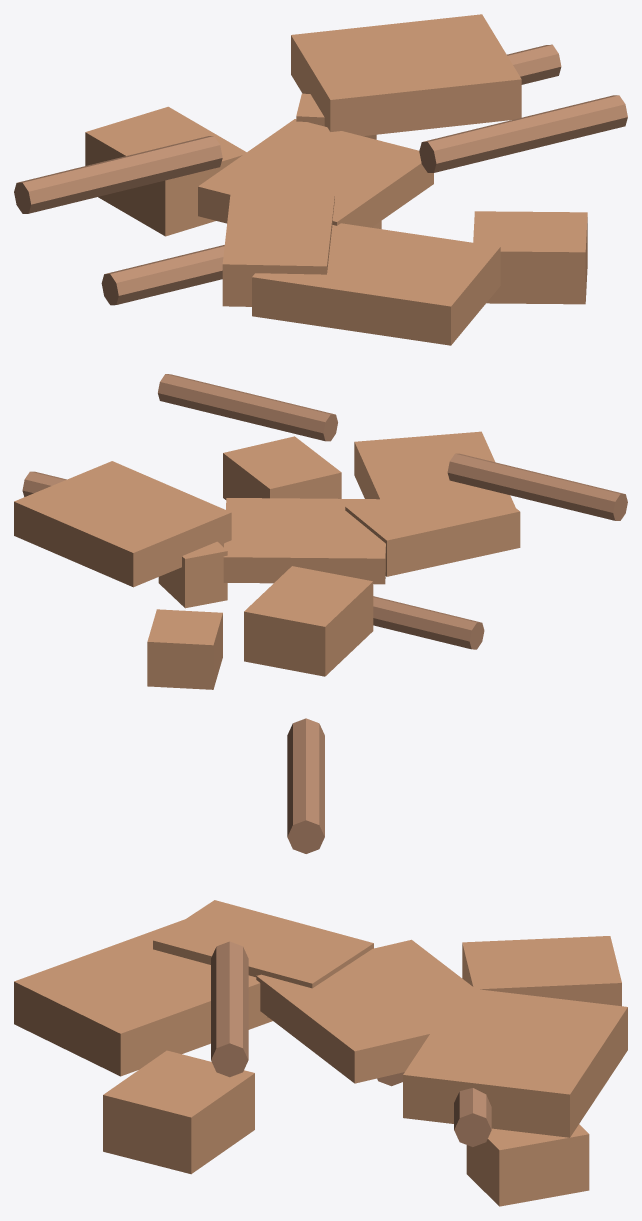
File: scrap_pile_04.glb
3 views of the same model, one above another, from view 1: azimuth 30°, elevation 25°; view 2: azimuth 150°, elevation 25°; view 3: azimuth 270°, elevation 25° (orthographic). The views are drawn at different scales.
Visible parts, largest first — view 1: scrap4, scrap11, scrap7, scrap10, scrap2, scrap5, pipe9, pipe3, pipe0, pipe6, scrap8; view 2: scrap4, scrap7, scrap5, scrap10, scrap11, scrap2, scrap1, pipe3, pipe9, pipe0, scrap8, pipe6; view 3: scrap4, scrap11, scrap7, scrap2, scrap10, scrap5, scrap1, pipe9, pipe3, pipe6.
Boxes of the visible parts, x1,y1,x2,y2 form: scrap4: (291,14,521,136); scrap11: (252,223,500,345); scrap7: (198,119,433,227); scrap10: (222,191,334,306); scrap2: (473,211,587,304); scrap5: (85,106,246,236); pipe9: (419,95,627,172); pipe3: (14,136,222,213); pipe0: (101,245,224,305); pipe6: (507,44,561,84); scrap8: (296,93,376,139); scrap4: (14,461,231,587); scrap7: (223,498,385,584); scrap5: (244,566,373,676); scrap10: (345,482,520,576); scrap11: (354,431,515,507); scrap2: (223,436,341,499); scrap1: (147,609,222,689); pipe3: (447,453,627,520); pipe9: (158,374,337,441); pipe0: (373,596,484,649); scrap8: (158,541,227,608); pipe6: (22,471,66,496); scrap4: (403,987,627,1137); scrap11: (14,919,272,1076); scrap7: (256,939,475,1083); scrap2: (103,1050,254,1174); scrap10: (153,900,373,1017); scrap5: (462,936,621,1006); scrap1: (466,1124,589,1206); pipe9: (211,941,248,1077); pipe3: (287,718,324,853); pipe6: (454,1088,491,1146).
Bounding box in the file's own units: 1.43 × 0.5149 × 1.15.
